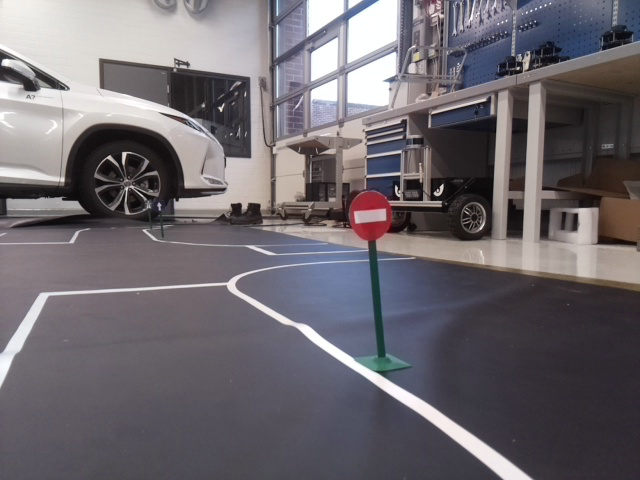NoEntry: (346, 189, 391, 242)
OneWay: (153, 200, 164, 212)
